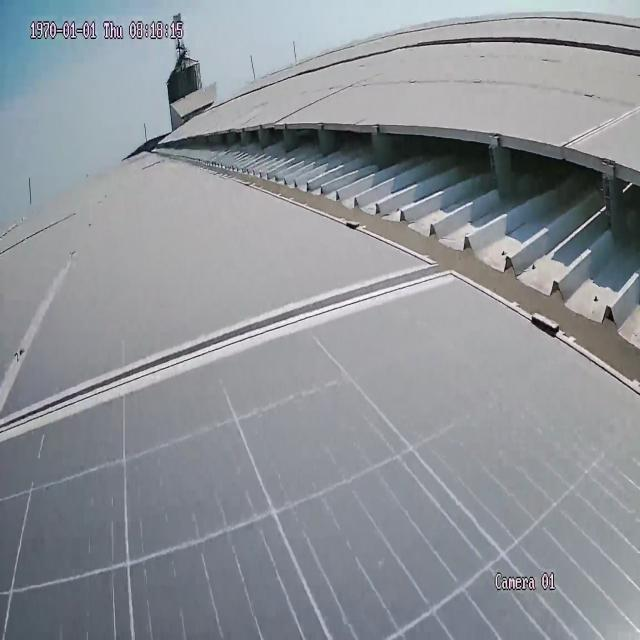interior panel: (2, 269, 434, 446)
outher panel: (153, 125, 640, 388)
